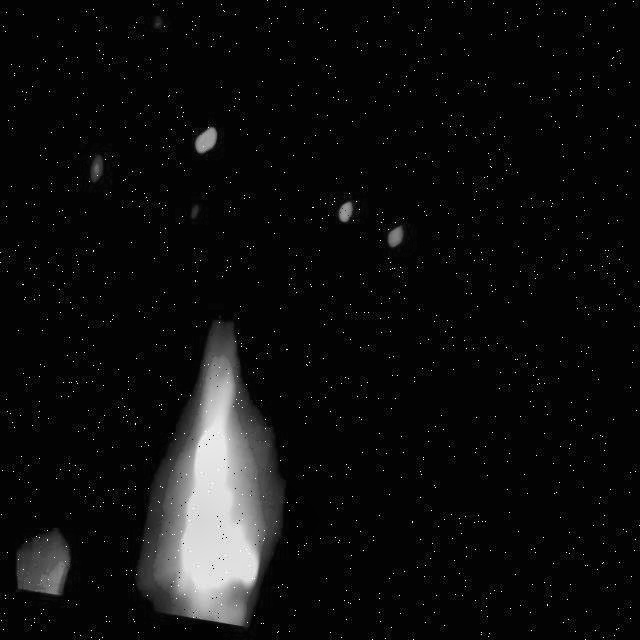Fire: (164, 413, 281, 598)
